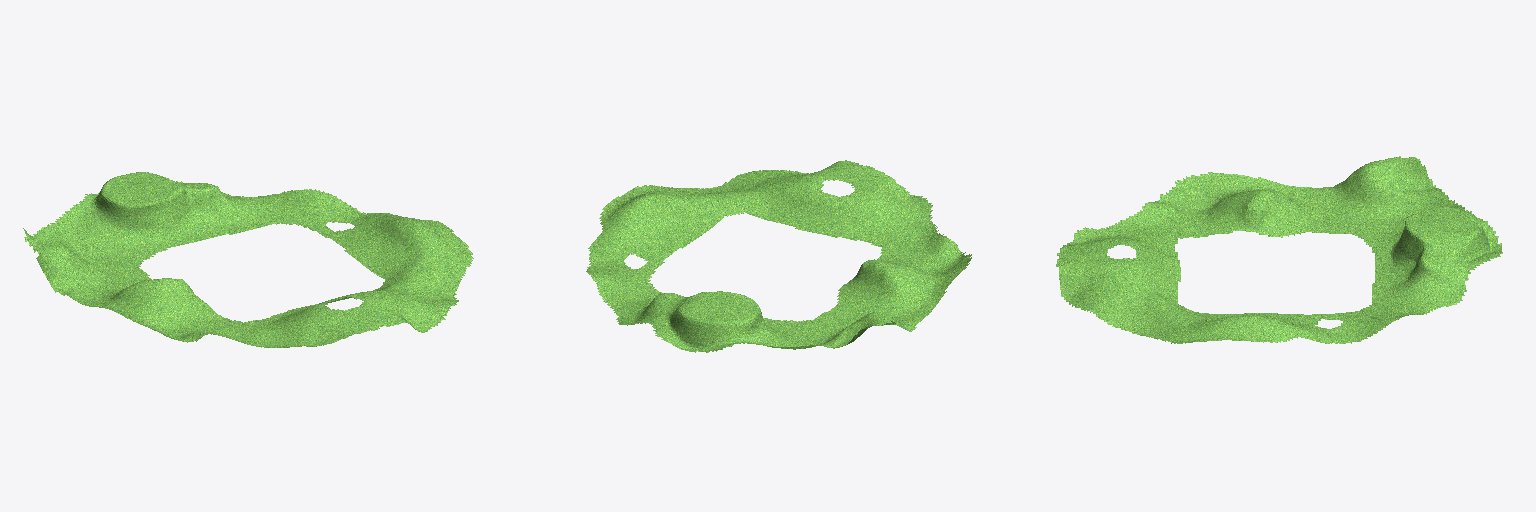
3 views of the same model, side by side, from view 1: azimuth 30°, elevation 25°; view 2: azimuth 150°, elevation 25°; view 3: azimuth 270°, elevation 25° (orthographic).
Parts seen in each view (by area): view 1: Plane.002_Plane.008; view 2: Plane.002_Plane.008; view 3: Plane.002_Plane.008.
Boxes of the visible parts, box(x1,y1,x2,y2) form: Plane.002_Plane.008: box(23, 172, 473, 347); Plane.002_Plane.008: box(586, 160, 971, 352); Plane.002_Plane.008: box(1056, 156, 1502, 343).
Size of the model in its own units: 195 by 20.03 by 217.
Materials: 1 (1 with a texture image).